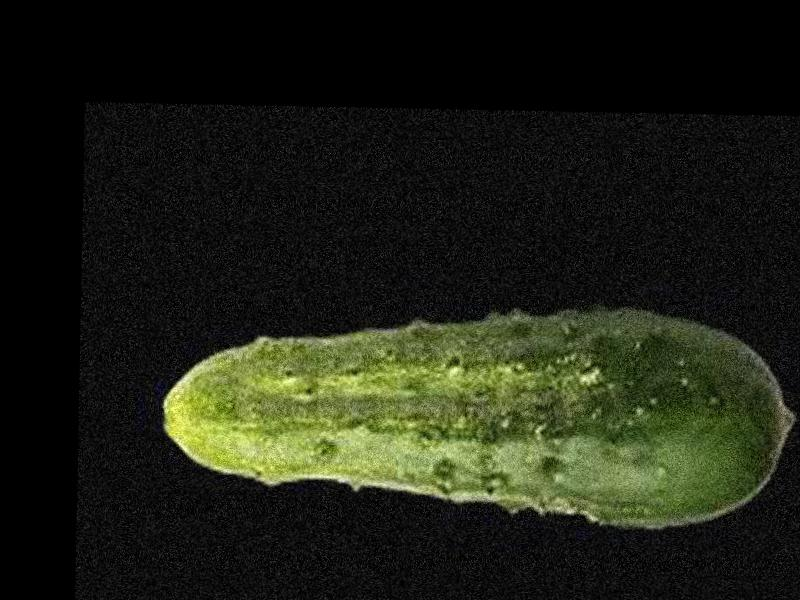Cucumber: (162, 294, 796, 531)
